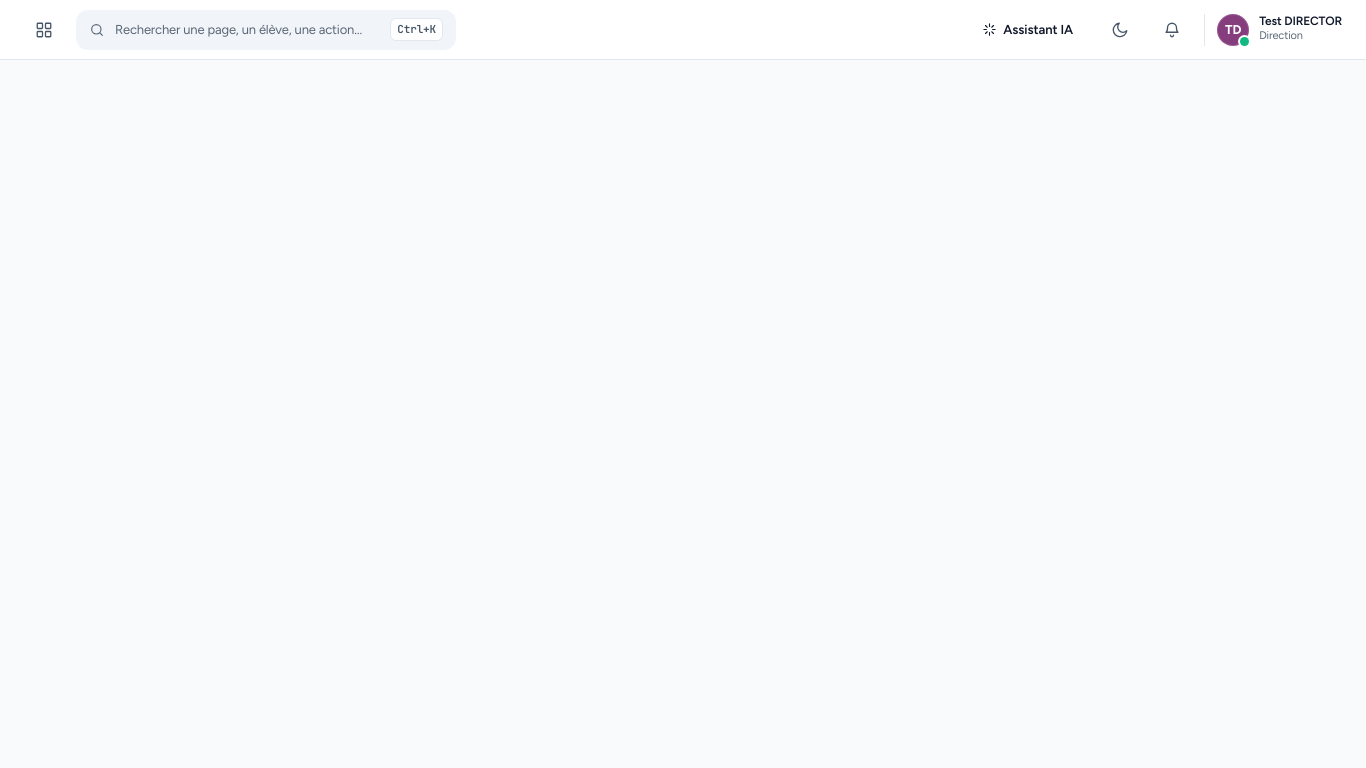
Barre du haut (EduTopBar) › bascule le thème clair/sombre et met à jour le libellé
The image size is (1366, 768).
Click the button named "Passer en mode sombre" at [1120, 30], box [1100,10,1140,50]
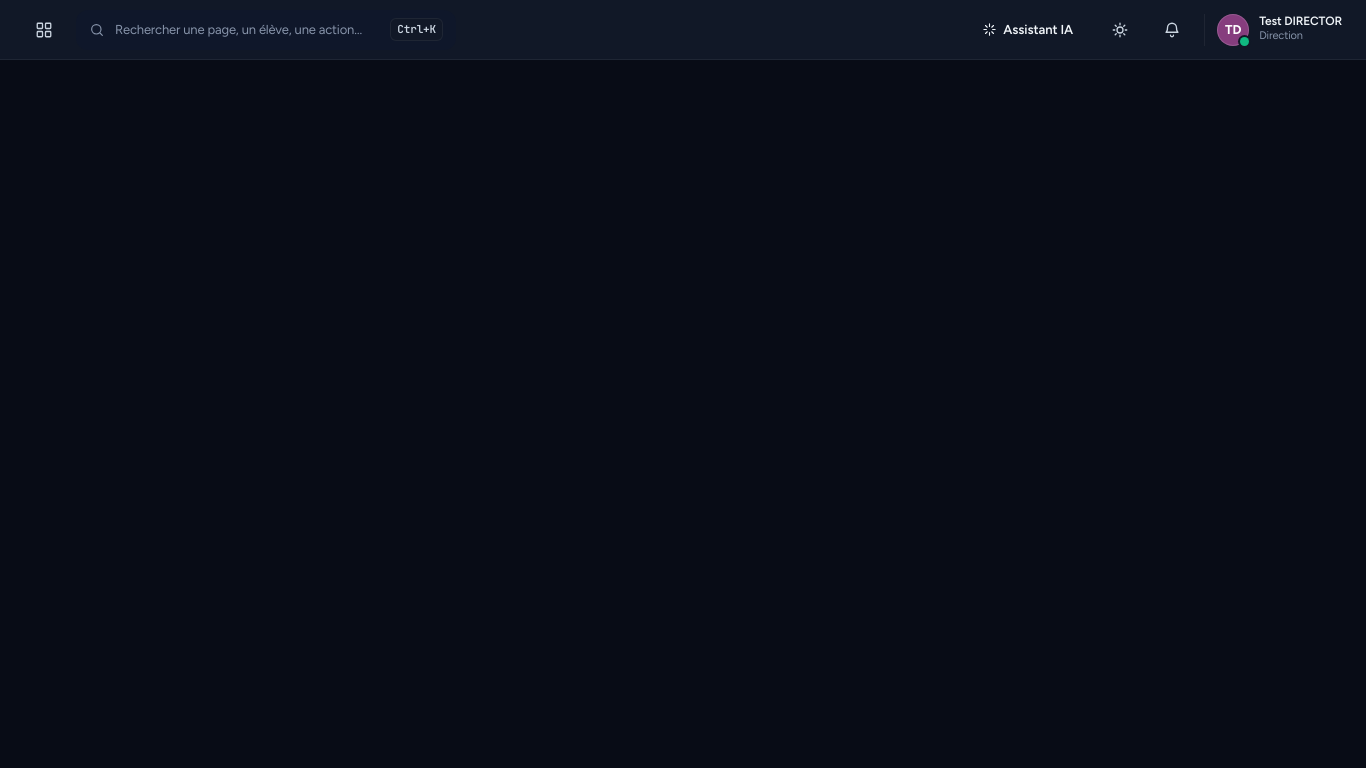
Click the button named "Passer en mode clair" at [1120, 30], box [1100,10,1140,50]
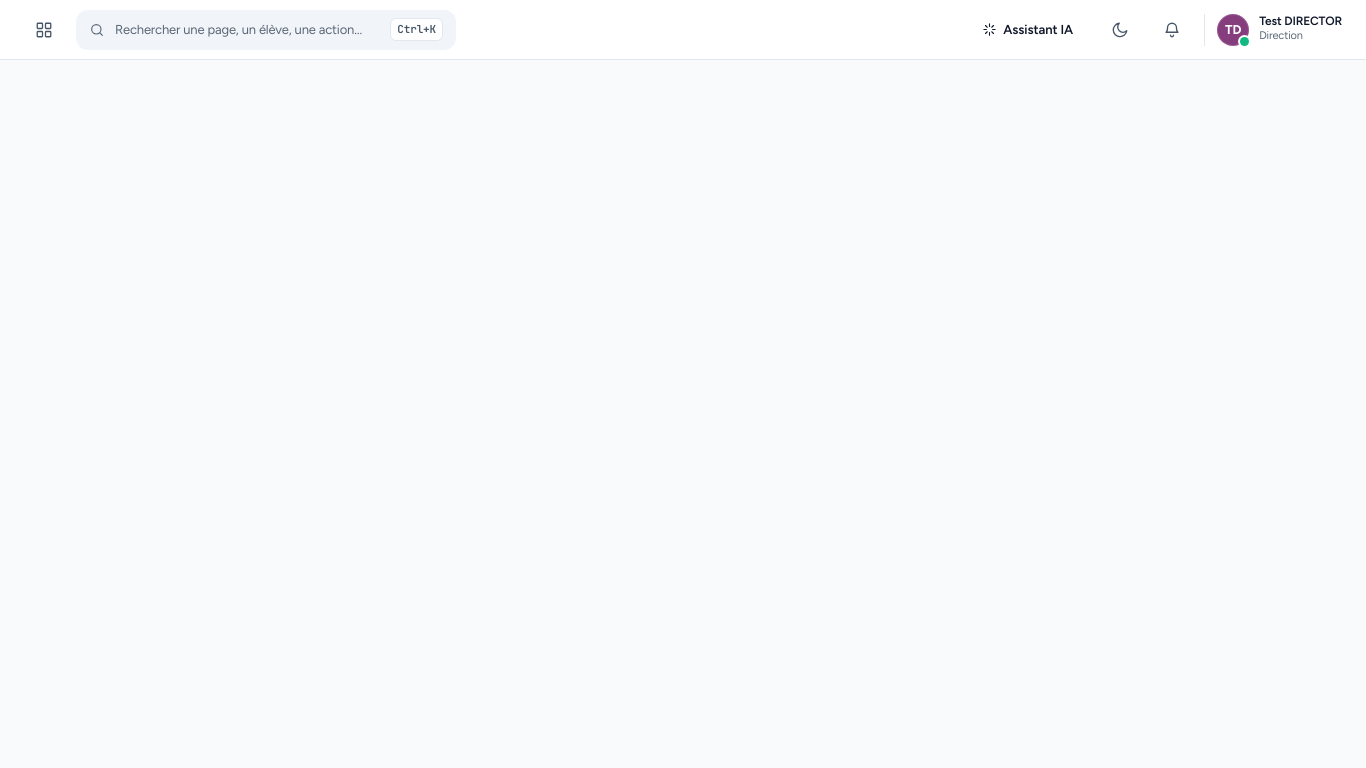
expect the button named "Passer en mode sombre" is shown: met, box [1100,10,1140,50]
